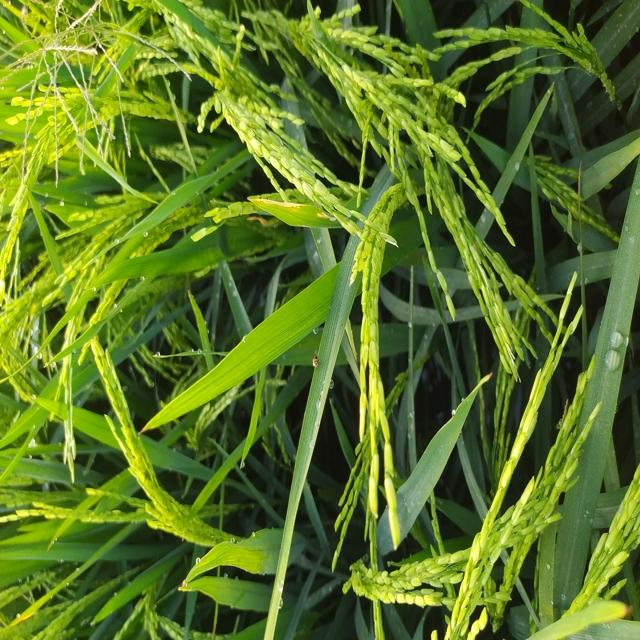Bacterial leaf blight: (248, 188, 342, 250)
healthy: (306, 349, 324, 375)
